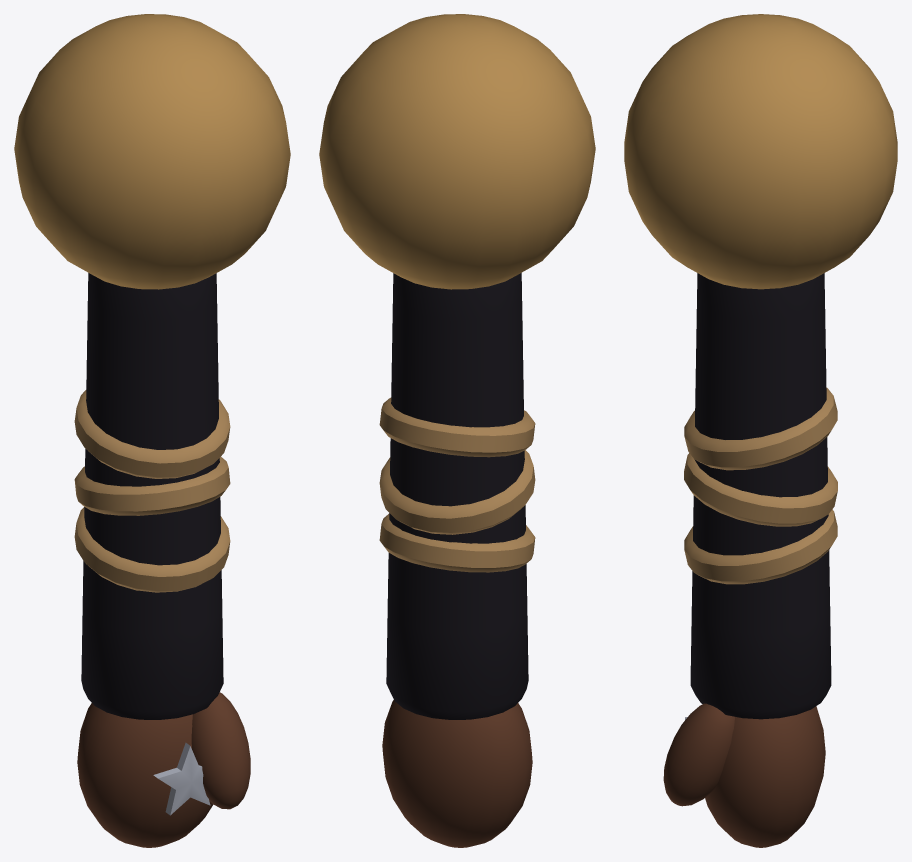
File: Arm_Ninja_L.fbx
3 views of the same model, side by side, from view 1: azimuth 30°, elevation 25°; view 2: azimuth 150°, elevation 25°; view 3: azimuth 270°, elevation 25° (orthographic).
Visible parts, largest first — view 1: Arm_Ninja_L; view 2: Arm_Ninja_L; view 3: Arm_Ninja_L.
Boxes of the visible parts, <box> form: Arm_Ninja_L: <box>14,14,290,847</box>; Arm_Ninja_L: <box>319,14,595,847</box>; Arm_Ninja_L: <box>624,14,897,847</box>.
Size of the model in its own units: 0.07 by 0.228 by 0.0693.
